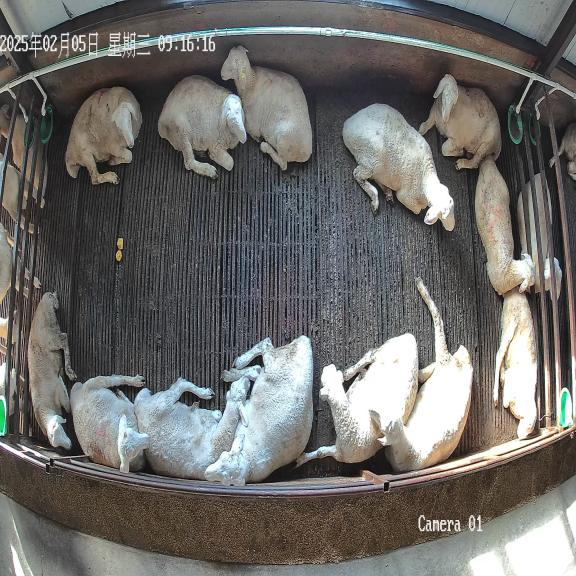lying: (369, 278, 472, 472), (205, 336, 313, 485), (298, 333, 418, 463), (343, 103, 454, 231), (134, 376, 251, 479), (221, 45, 312, 170), (158, 75, 247, 178), (475, 160, 536, 294), (419, 74, 501, 170), (70, 375, 150, 473), (27, 292, 76, 449), (65, 87, 142, 184), (493, 290, 537, 438)
